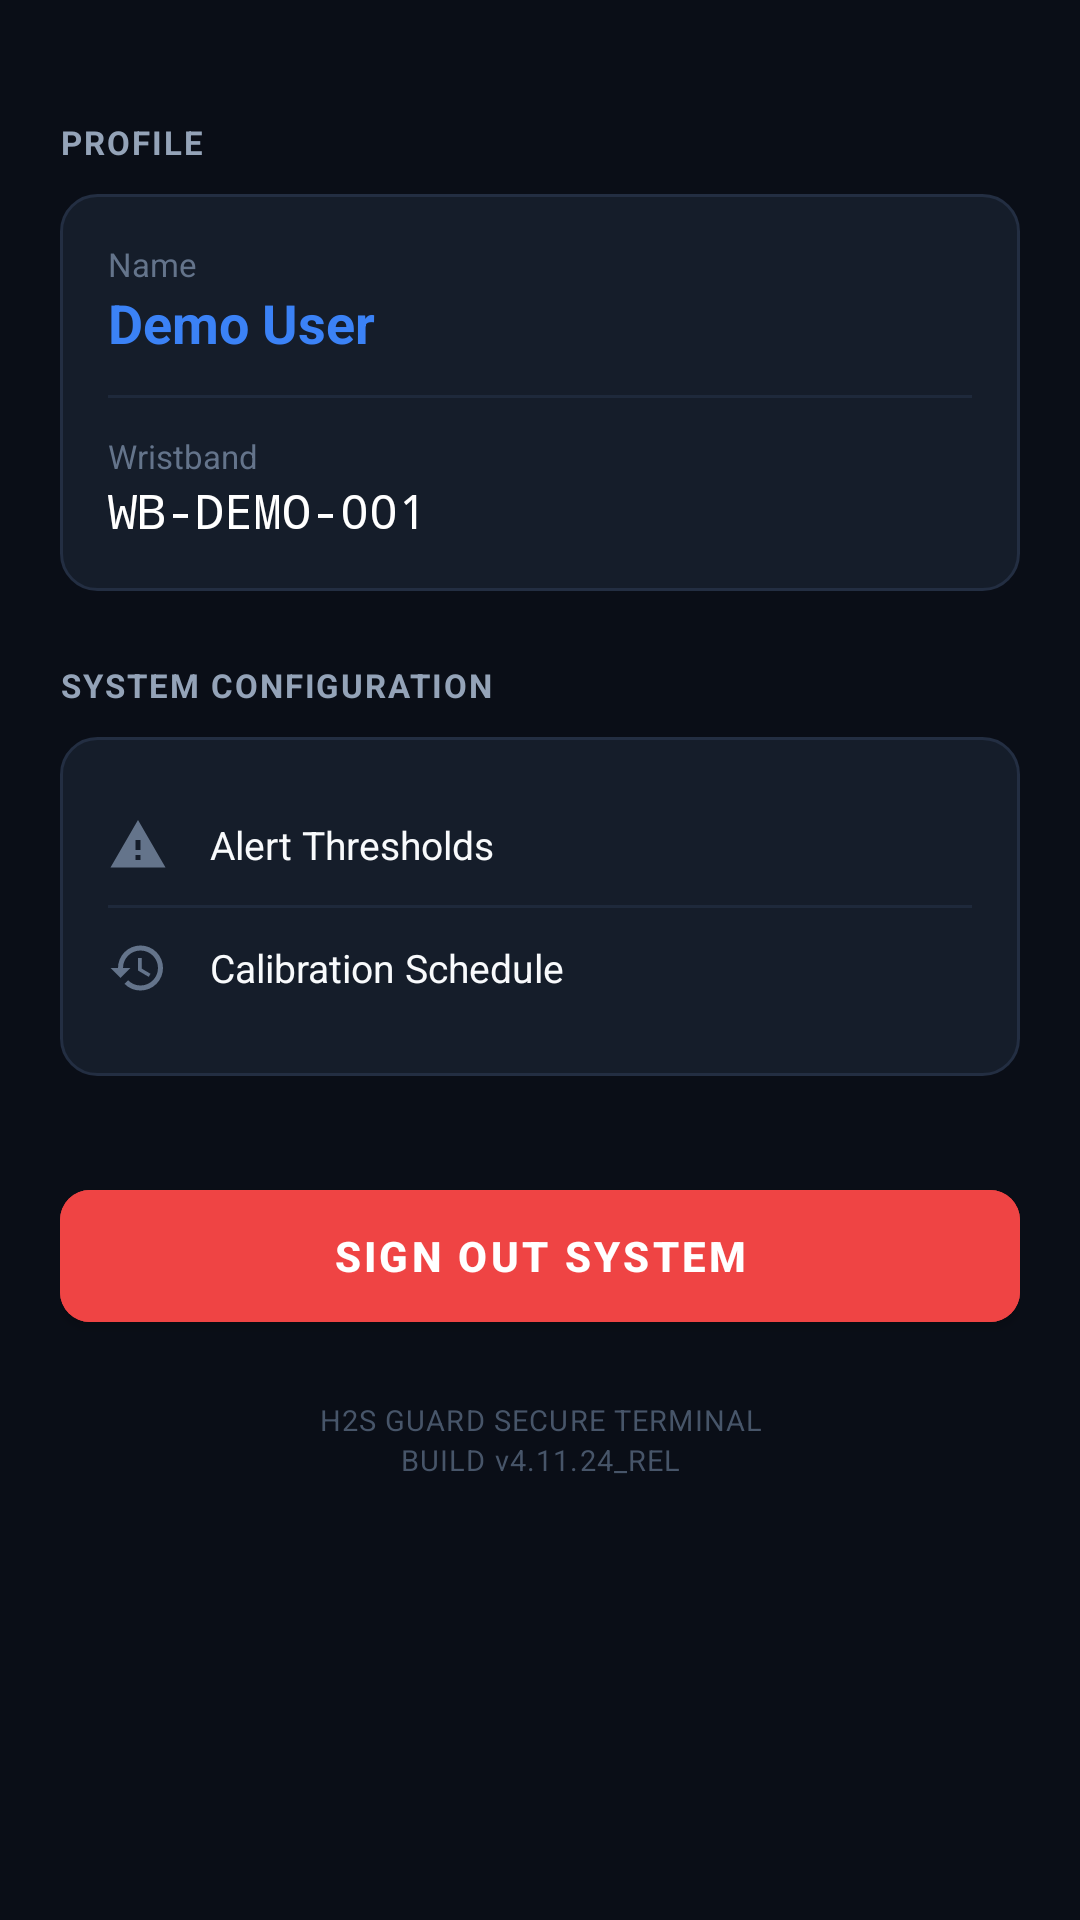

Screen size 1080 x 1920. Icon name, then its box in pixels as (x1, y1, x2, y2):
history: (111, 945, 163, 991)
warning triangle: (111, 820, 165, 868)
